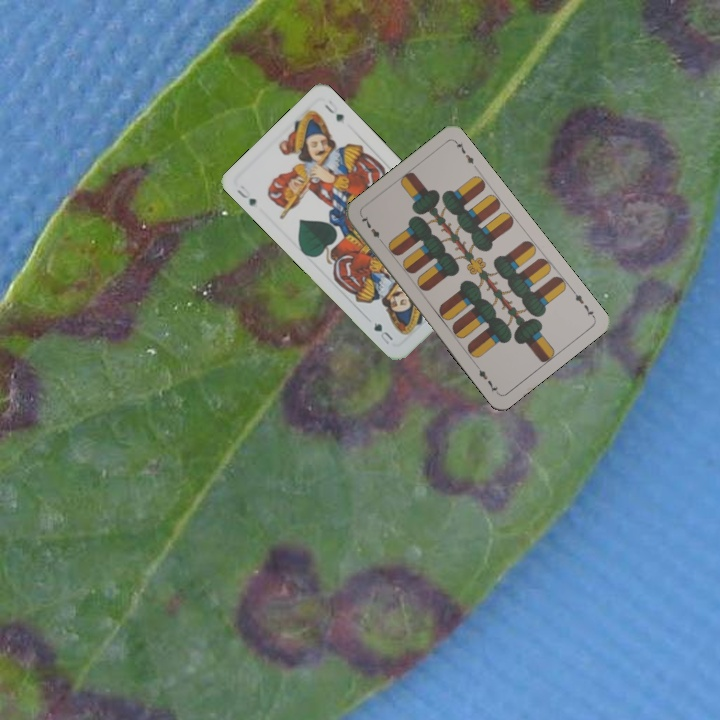E7: (357, 212, 386, 247), (568, 286, 597, 320)
GU: (233, 185, 259, 209)
